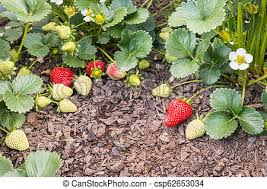Fresa: (162, 97, 194, 128), (49, 63, 75, 89)
